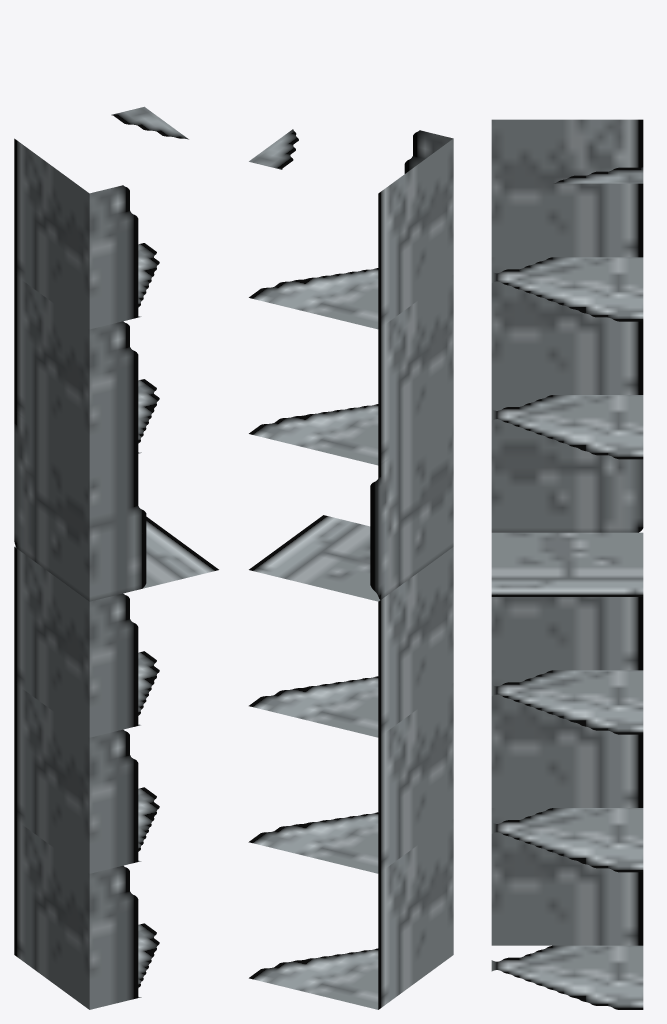
File: kraken_tentacle_short.fbx
3 renders of one model, left to right at view 1: azimuth 30°, elevation 25°; view 2: azimuth 150°, elevation 25°; view 3: azimuth 270°, elevation 25°, orthographic.
Visible parts, largest first — view 1: segment4Cube, segment6Cube, segment1Cube, segment2Cube, segment5Cube, segment3Cube, segment7Cube; view 2: segment4Cube, segment6Cube, segment5Cube, segment1Cube, segment2Cube, segment3Cube, segment7Cube; view 3: segment6Cube, segment4Cube, segment5Cube, segment2Cube, segment1Cube, segment3Cube, segment7Cube.
Boxes of the visible parts, box(x1,y1,x2,y2) form: segment4Cube: box(14, 411, 218, 601); segment6Cube: box(14, 138, 159, 329); segment1Cube: box(14, 819, 159, 1009); segment2Cube: box(14, 683, 159, 873); segment5Cube: box(14, 275, 159, 465); segment3Cube: box(14, 547, 159, 737); segment7Cube: box(111, 106, 188, 139); segment4Cube: box(249, 411, 453, 601); segment6Cube: box(249, 130, 453, 329); segment5Cube: box(249, 275, 453, 465); segment1Cube: box(249, 819, 453, 1009); segment2Cube: box(248, 683, 453, 873); segment3Cube: box(249, 547, 453, 737); segment7Cube: box(249, 129, 298, 169); segment6Cube: box(491, 119, 643, 321); segment4Cube: box(491, 395, 643, 596); segment5Cube: box(491, 257, 643, 459); segment2Cube: box(491, 670, 643, 872); segment1Cube: box(491, 808, 643, 1009); segment3Cube: box(491, 597, 643, 734); segment7Cube: box(554, 167, 643, 183).
Bounding box in the file's own units: 100 × 700 × 112.
